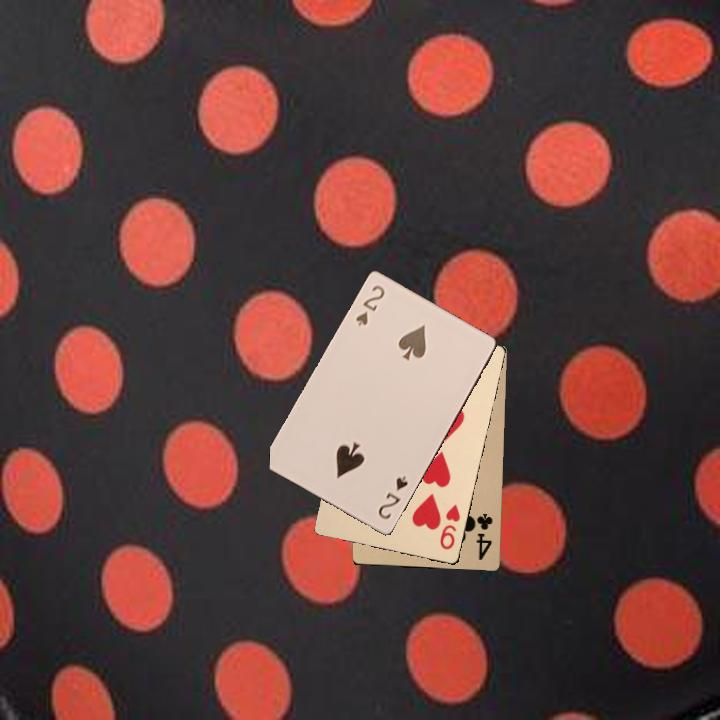2s: (374, 473, 410, 522), (352, 281, 387, 329)
4c: (471, 509, 495, 562)
9h: (436, 500, 463, 552)
